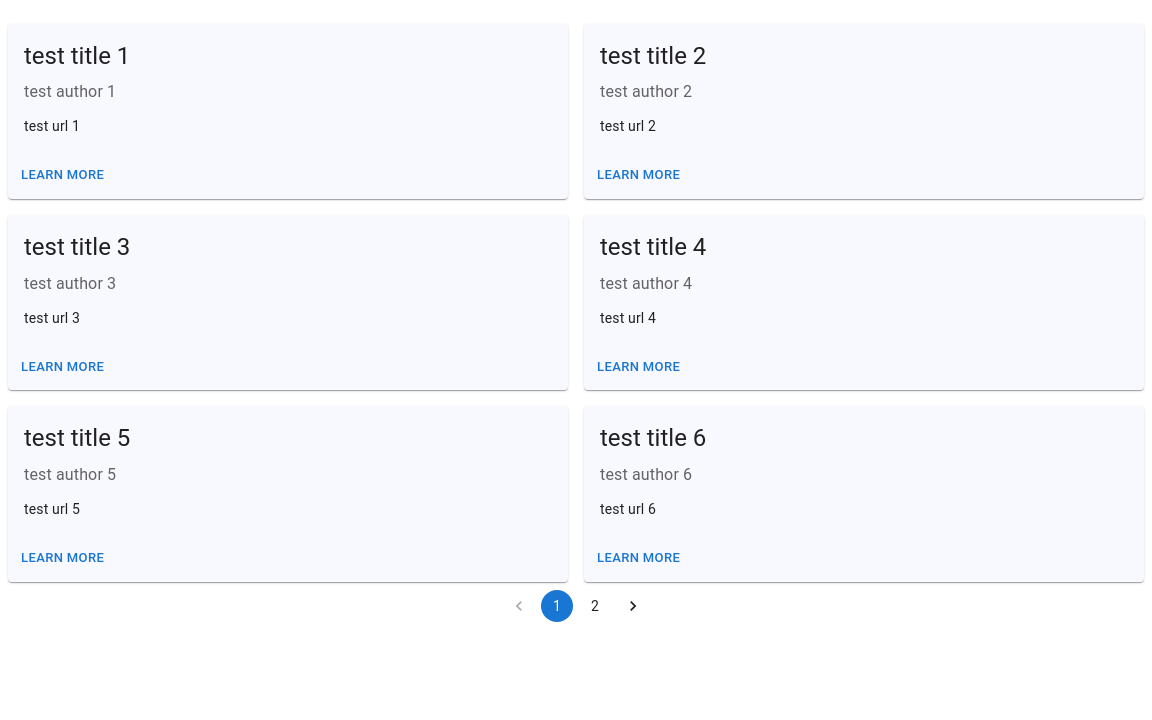
Scenario: <BlogPagination> › show the first 6 blogs again when switching to page 1
The image size is (1152, 720).
Click the button named "Go to next page": (633,606) [617,590,649,622]
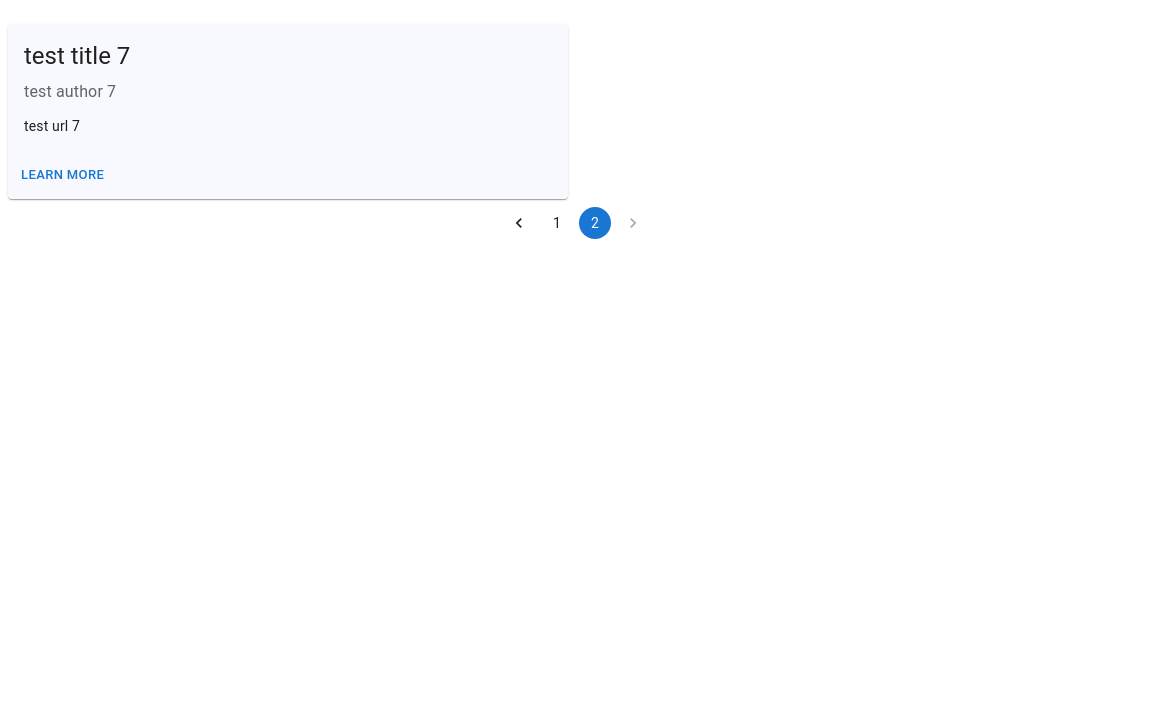
Click the button named "Go to page 1": (557,223) [541,207,573,239]
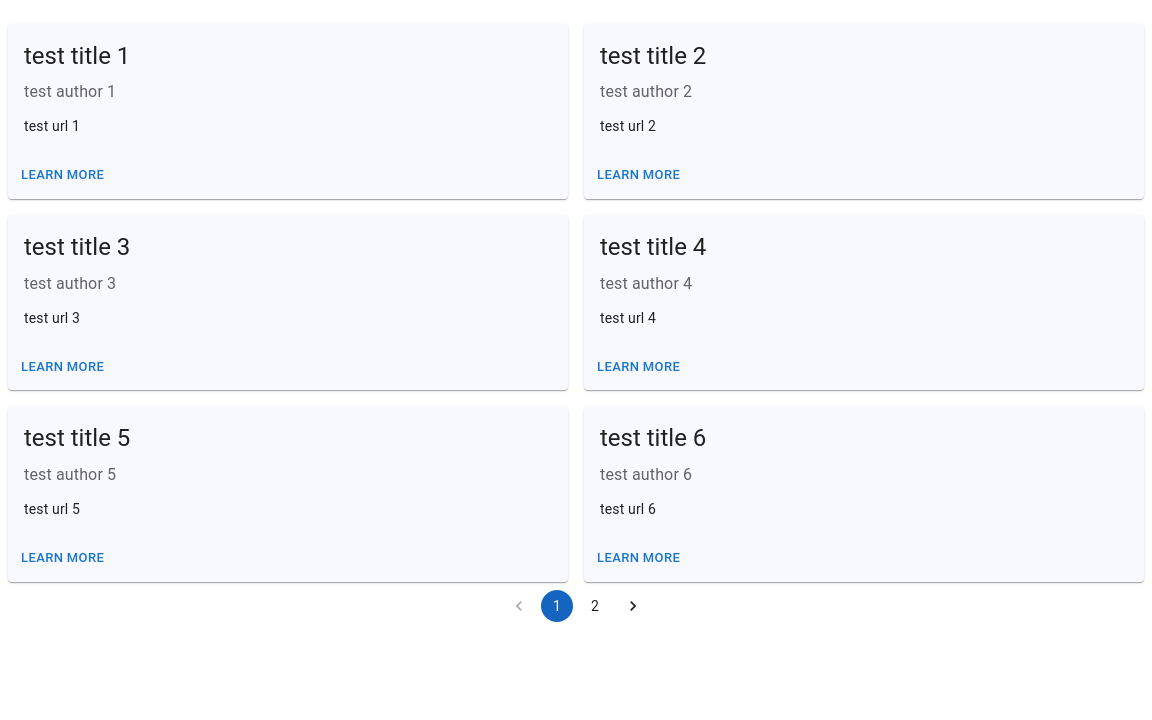
expect the heading "test title 1" is shown: met, box [24,42,130,70]
expect the heading "test title 2" is shown: met, box [600,42,706,70]
expect the heading "test title 3" is shown: met, box [24,233,130,261]
